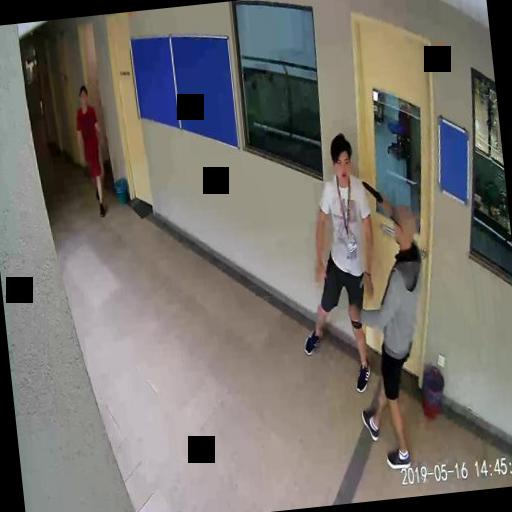Handgun: (360, 178, 384, 208)
